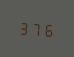seven: (31, 19, 42, 37)
six: (43, 20, 54, 38)
three: (18, 18, 29, 36)
